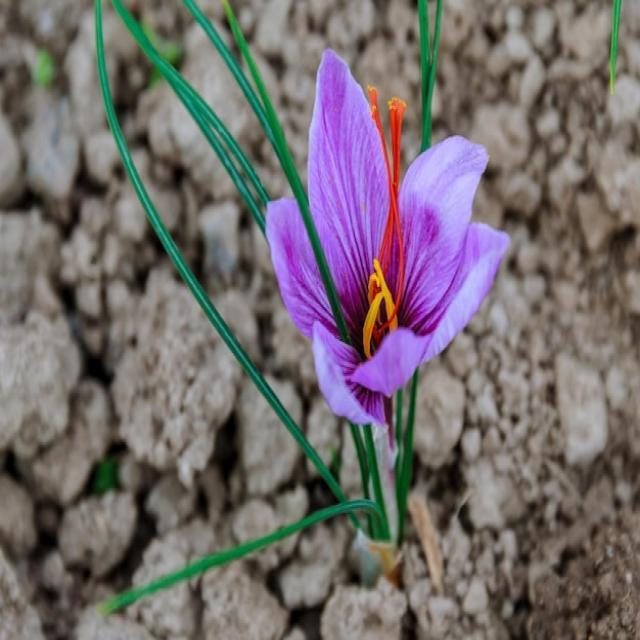Flower: (264, 52, 508, 398)
stigma: (380, 87, 410, 269)
